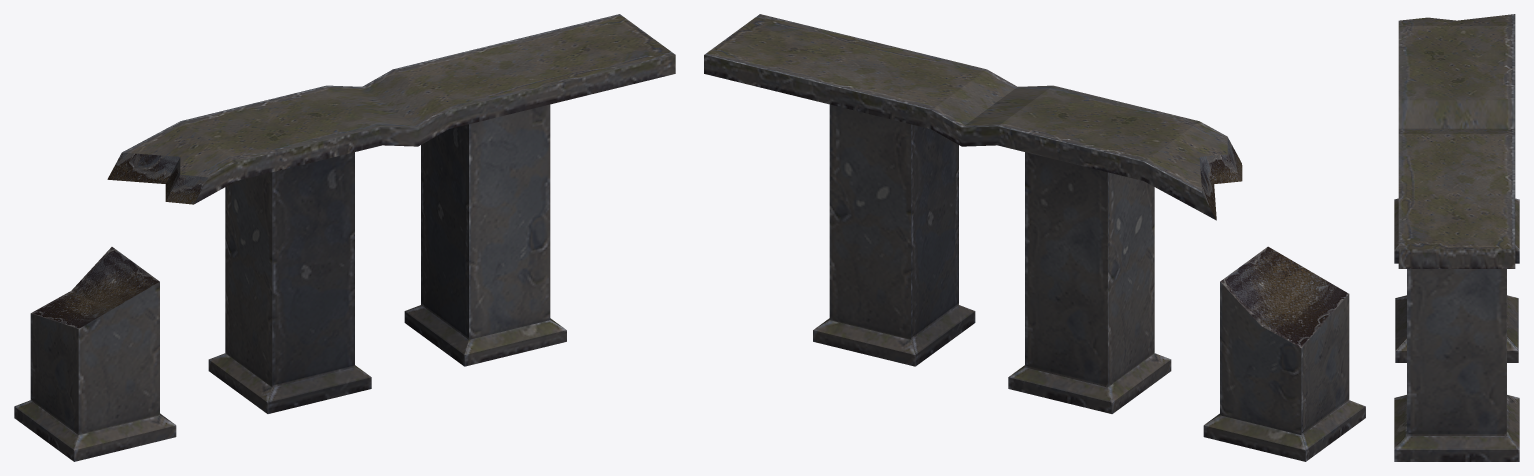
3 renders of one model, left to right at view 1: azimuth 30°, elevation 25°; view 2: azimuth 150°, elevation 25°; view 3: azimuth 270°, elevation 25°, orthographic. The views are drawn at different scales.
Parts seen in each view (by area): view 1: s_0006_fs_01; view 2: s_0006_fs_01; view 3: s_0006_fs_01.
Part boxes in pixels (<box>): s_0006_fs_01: <box>14,14,675,461</box>; s_0006_fs_01: <box>704,14,1365,461</box>; s_0006_fs_01: <box>1394,14,1519,461</box>.
Bounding box in the file's own units: 122 × 49.87 × 21.03.
